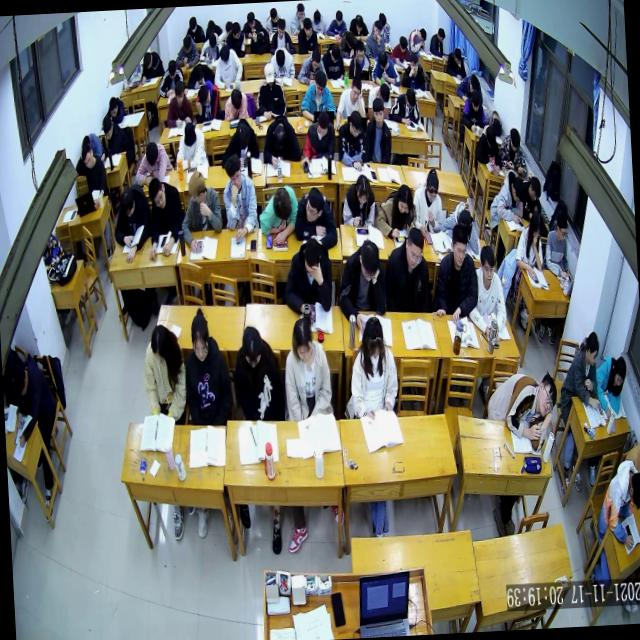bow: (485, 366, 559, 448), (292, 187, 338, 250), (486, 170, 526, 233), (111, 182, 150, 245), (260, 114, 302, 170), (375, 179, 414, 236), (218, 118, 259, 170), (258, 185, 298, 237), (134, 141, 174, 185), (370, 52, 400, 89), (195, 83, 222, 124), (222, 85, 250, 122), (184, 58, 216, 88), (140, 51, 166, 85), (198, 31, 224, 65), (101, 94, 126, 128), (456, 74, 484, 104), (324, 3, 348, 33), (240, 11, 264, 38), (484, 106, 504, 138), (348, 13, 370, 37), (312, 8, 322, 26)
down: (190, 315, 212, 367), (5, 353, 28, 402), (240, 323, 264, 369), (291, 317, 315, 363), (150, 326, 173, 372), (358, 234, 379, 280), (362, 316, 384, 359), (404, 225, 426, 268), (303, 240, 322, 278), (272, 186, 292, 220), (554, 210, 572, 246), (610, 356, 628, 389), (354, 174, 371, 206), (585, 332, 600, 368), (426, 171, 440, 208), (627, 470, 640, 509), (397, 183, 413, 214), (530, 208, 544, 240), (120, 190, 136, 218), (510, 170, 524, 200), (314, 110, 330, 136), (348, 107, 362, 136), (528, 174, 542, 203), (183, 116, 197, 144), (236, 120, 250, 148), (349, 76, 363, 104), (262, 56, 276, 84), (313, 70, 327, 97), (145, 142, 159, 168), (508, 124, 522, 150), (197, 84, 212, 107), (469, 87, 482, 113), (102, 118, 115, 142), (174, 78, 186, 104), (377, 49, 390, 72), (468, 73, 482, 94), (485, 126, 497, 150), (108, 96, 120, 120), (377, 78, 391, 98), (182, 33, 194, 56), (167, 60, 179, 82), (230, 86, 243, 106), (404, 84, 416, 105), (355, 37, 365, 62), (330, 45, 342, 65), (310, 50, 322, 70), (268, 6, 280, 26), (218, 45, 230, 64), (276, 17, 286, 39), (302, 18, 312, 38), (397, 36, 408, 54), (142, 51, 152, 70), (454, 48, 464, 66), (355, 14, 364, 33), (246, 11, 255, 29), (208, 32, 218, 48), (416, 28, 426, 44), (189, 16, 198, 32), (297, 3, 305, 20), (438, 27, 446, 43), (336, 10, 342, 26)
lookup: (449, 222, 468, 266), (480, 244, 498, 286), (146, 177, 166, 210), (224, 150, 242, 186), (80, 144, 96, 172), (371, 98, 384, 126), (409, 51, 419, 73), (372, 20, 383, 40)
sit: (3, 347, 59, 459), (182, 303, 235, 421), (230, 322, 288, 424), (282, 317, 335, 422), (346, 310, 399, 412), (141, 322, 188, 422), (384, 225, 434, 318), (433, 220, 480, 318), (594, 461, 640, 554), (466, 243, 508, 344), (281, 237, 334, 316), (337, 234, 388, 312), (144, 175, 184, 262), (178, 164, 222, 242), (557, 330, 602, 402), (221, 152, 258, 232), (74, 140, 109, 208), (595, 354, 630, 418), (514, 210, 544, 284), (411, 164, 443, 232), (300, 111, 338, 166), (543, 210, 572, 282), (340, 174, 378, 228), (254, 55, 287, 117), (336, 107, 368, 169), (364, 94, 393, 162), (332, 76, 368, 130), (300, 65, 336, 118), (174, 120, 209, 173), (473, 120, 502, 173), (212, 41, 244, 87), (500, 126, 528, 178), (164, 76, 193, 121), (391, 86, 422, 128), (100, 116, 128, 162), (346, 34, 372, 80), (459, 85, 484, 130), (296, 50, 327, 86), (268, 16, 294, 56), (158, 60, 185, 98), (400, 51, 426, 90), (268, 46, 296, 82), (364, 18, 387, 59), (321, 42, 345, 80), (296, 17, 318, 56), (174, 34, 199, 68), (224, 21, 246, 58), (446, 46, 467, 82), (183, 14, 206, 44), (290, 2, 310, 36), (408, 26, 428, 59), (390, 36, 411, 65), (428, 26, 446, 58), (264, 6, 282, 38), (312, 6, 327, 33)
